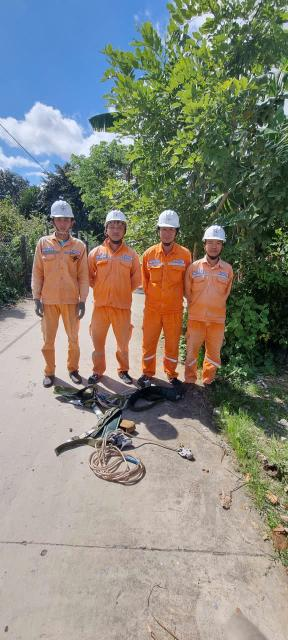gloves: (31, 294, 46, 324), (76, 297, 87, 318)
helmet: (45, 192, 76, 223), (94, 205, 131, 230), (153, 209, 182, 233), (205, 220, 229, 246)
shoes: (40, 367, 57, 388), (69, 368, 86, 387), (87, 368, 103, 387), (117, 367, 133, 384), (165, 374, 183, 387), (138, 370, 150, 387)
